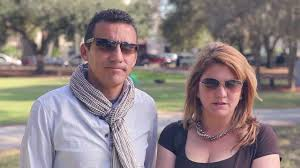no-mask: (79, 16, 142, 90), (195, 53, 246, 121)
